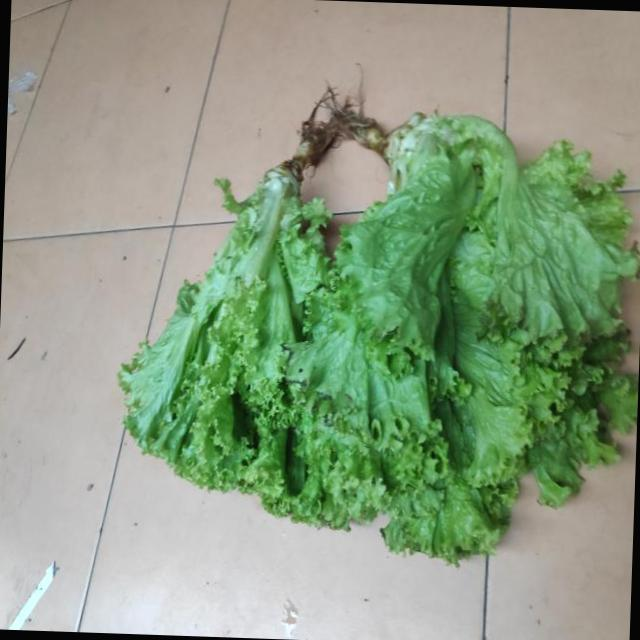Lettuce-Ready-to-Harvest: (119, 169, 516, 559), (289, 114, 640, 503)
